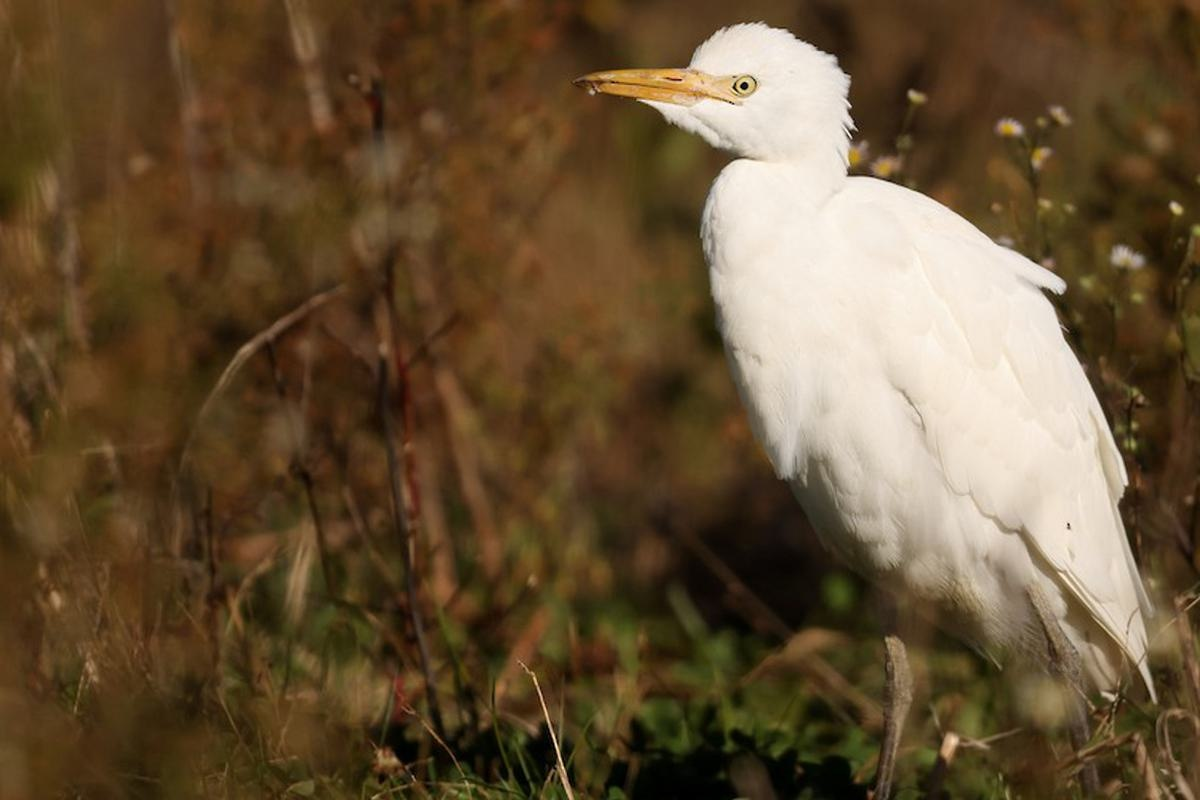egret: (578, 21, 1173, 794)
